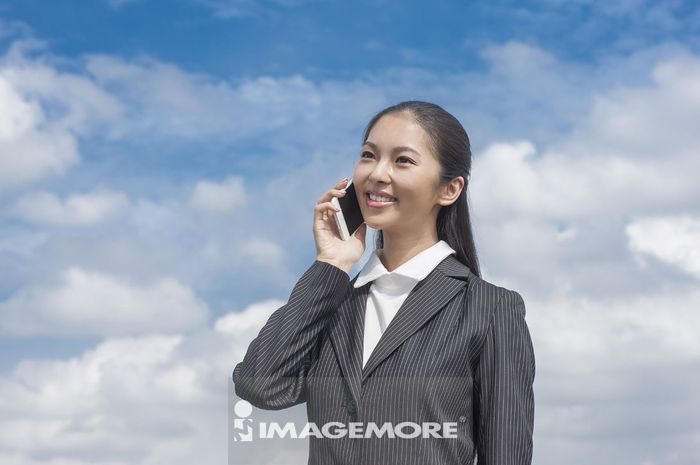phone: (330, 176, 362, 239)
talk: (310, 135, 425, 274)
